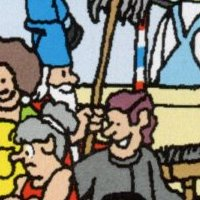wb: (25, 15, 81, 108)
